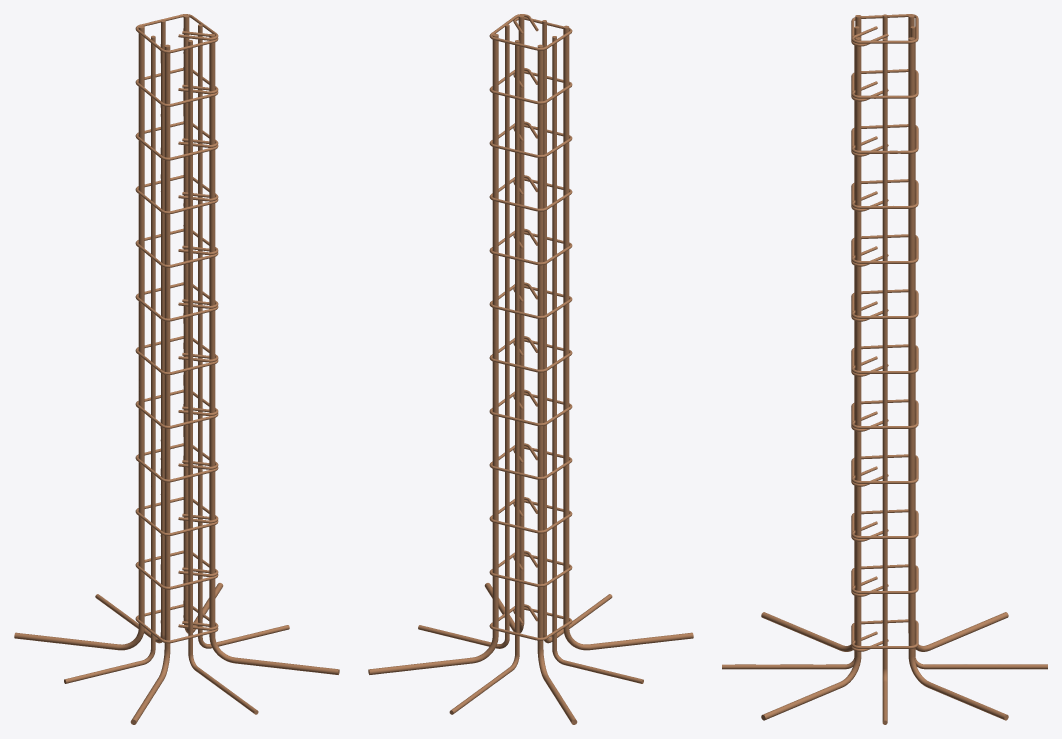
The picture shows the model from 3 angles, left to right: view 1: azimuth 30°, elevation 25°; view 2: azimuth 150°, elevation 25°; view 3: azimuth 270°, elevation 25°; orthographic projection. The views are drawn at different scales.
Visible parts, largest first — view 1: Rebar Bar H10 : Shape 52 [368273]_[319274]001, Rebar Bar H20 : Shape Rebar Shape 1 [368274]_[319274]001, Rebar Bar H20 : Shape Rebar Shape 1 [368276]_[319274]001, Rebar Bar H20 : Shape Rebar Shape 1 [368277]_[319274]001, Rebar Bar H16 : Shape Rebar Shape 1 [368281]_[319274]001, Rebar Bar H16 : Shape Rebar Shape 1 [368279]_[319274]001, Rebar Bar H20 : Shape Rebar Shape 1 [368275]_[319274]001, Rebar Bar H16 : Shape Rebar Shape 1 [368280]_[319274]001, Rebar Bar H16 : Shape Rebar Shape 1 [368278]_[319274]001; view 2: Rebar Bar H10 : Shape 52 [368273]_[319274]001, Rebar Bar H20 : Shape Rebar Shape 1 [368275]_[319274]001, Rebar Bar H20 : Shape Rebar Shape 1 [368277]_[319274]001, Rebar Bar H20 : Shape Rebar Shape 1 [368274]_[319274]001, Rebar Bar H20 : Shape Rebar Shape 1 [368276]_[319274]001, Rebar Bar H16 : Shape Rebar Shape 1 [368279]_[319274]001, Rebar Bar H16 : Shape Rebar Shape 1 [368278]_[319274]001, Rebar Bar H16 : Shape Rebar Shape 1 [368280]_[319274]001, Rebar Bar H16 : Shape Rebar Shape 1 [368281]_[319274]001; view 3: Rebar Bar H10 : Shape 52 [368273]_[319274]001, Rebar Bar H20 : Shape Rebar Shape 1 [368275]_[319274]001, Rebar Bar H20 : Shape Rebar Shape 1 [368276]_[319274]001, Rebar Bar H16 : Shape Rebar Shape 1 [368280]_[319274]001, Rebar Bar H16 : Shape Rebar Shape 1 [368278]_[319274]001, Rebar Bar H16 : Shape Rebar Shape 1 [368281]_[319274]001, Rebar Bar H20 : Shape Rebar Shape 1 [368274]_[319274]001, Rebar Bar H20 : Shape Rebar Shape 1 [368277]_[319274]001.
Part boxes in pixels (x1,y1,x2,y2): Rebar Bar H10 : Shape 52 [368273]_[319274]001: (135, 14, 218, 643); Rebar Bar H20 : Shape Rebar Shape 1 [368274]_[319274]001: (14, 25, 144, 650); Rebar Bar H20 : Shape Rebar Shape 1 [368276]_[319274]001: (209, 33, 339, 674); Rebar Bar H20 : Shape Rebar Shape 1 [368277]_[319274]001: (130, 44, 170, 724); Rebar Bar H16 : Shape Rebar Shape 1 [368281]_[319274]001: (188, 40, 258, 714); Rebar Bar H16 : Shape Rebar Shape 1 [368279]_[319274]001: (64, 35, 155, 683); Rebar Bar H20 : Shape Rebar Shape 1 [368275]_[319274]001: (183, 14, 223, 633); Rebar Bar H16 : Shape Rebar Shape 1 [368280]_[319274]001: (198, 24, 289, 648); Rebar Bar H16 : Shape Rebar Shape 1 [368278]_[319274]001: (95, 20, 165, 643); Rebar Bar H10 : Shape 52 [368273]_[319274]001: (489, 14, 572, 640); Rebar Bar H20 : Shape Rebar Shape 1 [368275]_[319274]001: (368, 33, 498, 674); Rebar Bar H20 : Shape Rebar Shape 1 [368277]_[319274]001: (563, 25, 693, 650); Rebar Bar H20 : Shape Rebar Shape 1 [368274]_[319274]001: (537, 44, 577, 724); Rebar Bar H20 : Shape Rebar Shape 1 [368276]_[319274]001: (484, 14, 524, 633); Rebar Bar H16 : Shape Rebar Shape 1 [368279]_[319274]001: (552, 36, 643, 683); Rebar Bar H16 : Shape Rebar Shape 1 [368278]_[319274]001: (449, 40, 519, 714); Rebar Bar H16 : Shape Rebar Shape 1 [368280]_[319274]001: (418, 24, 509, 648); Rebar Bar H16 : Shape Rebar Shape 1 [368281]_[319274]001: (542, 20, 612, 643); Rebar Bar H10 : Shape 52 [368273]_[319274]001: (851, 14, 918, 651); Rebar Bar H20 : Shape Rebar Shape 1 [368275]_[319274]001: (908, 37, 1008, 720); Rebar Bar H20 : Shape Rebar Shape 1 [368276]_[319274]001: (761, 37, 861, 720); Rebar Bar H16 : Shape Rebar Shape 1 [368280]_[319274]001: (882, 38, 887, 724); Rebar Bar H16 : Shape Rebar Shape 1 [368278]_[319274]001: (910, 26, 1047, 669); Rebar Bar H16 : Shape Rebar Shape 1 [368281]_[319274]001: (722, 26, 859, 669); Rebar Bar H20 : Shape Rebar Shape 1 [368274]_[319274]001: (908, 15, 1008, 651); Rebar Bar H20 : Shape Rebar Shape 1 [368277]_[319274]001: (761, 15, 861, 651).
Bounding box in the file's own units: 0.8673 × 2.32 × 1.07.
